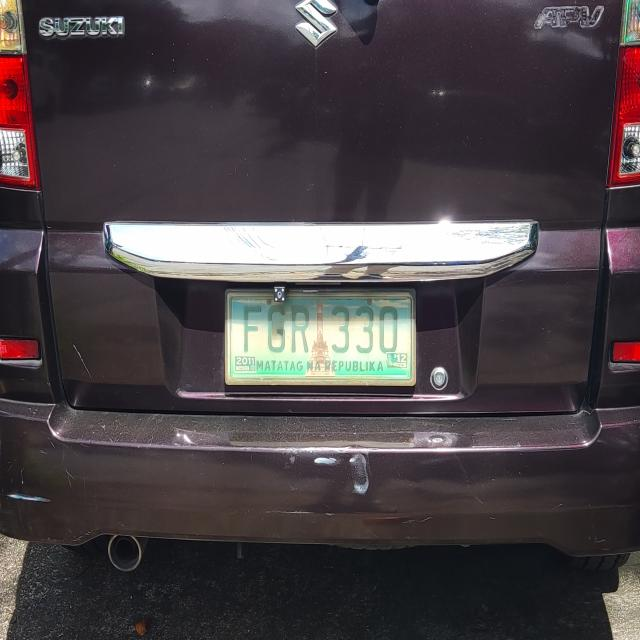plate: (224, 286, 417, 387)
